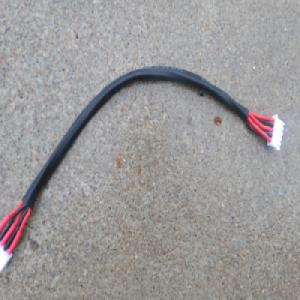Wire: (0, 67, 286, 277)
